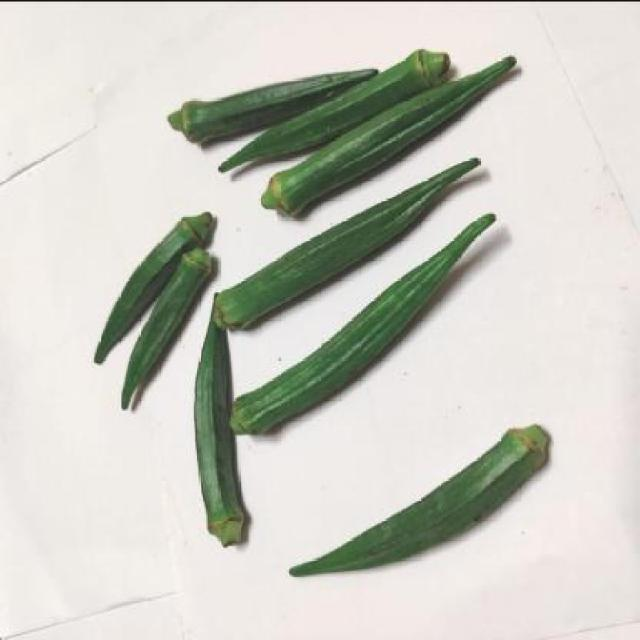Lady finger: (166, 48, 522, 217), (228, 212, 502, 430), (284, 390, 562, 582), (74, 193, 220, 410), (189, 282, 254, 552)
